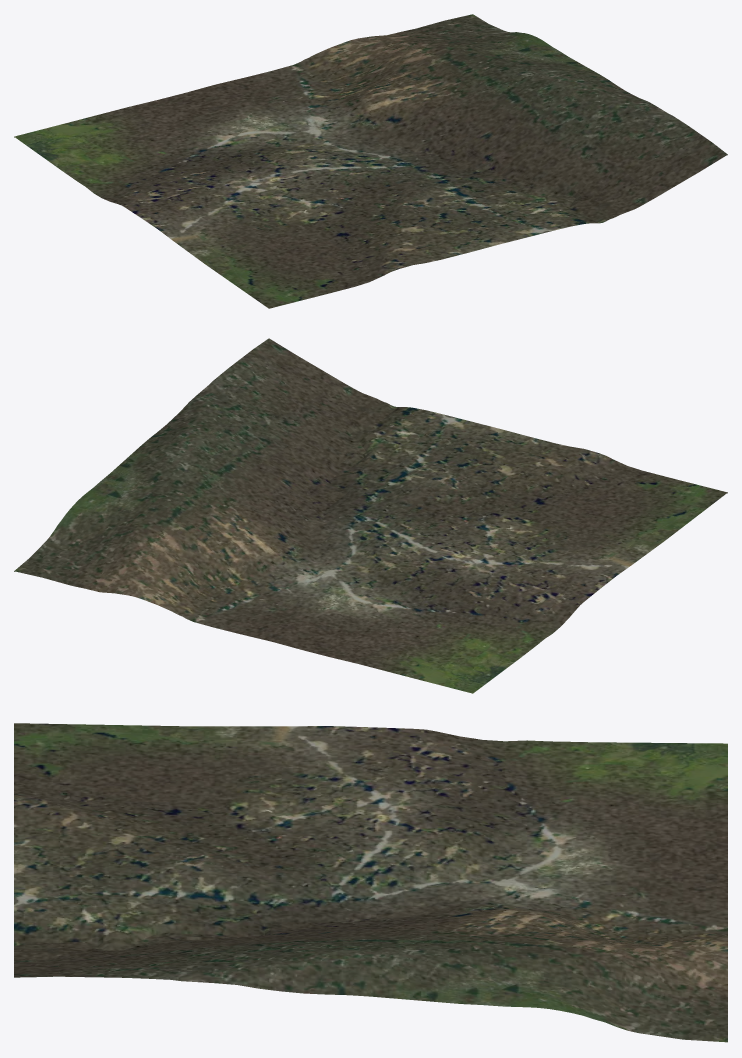
3 views of the same model, one above another, from view 1: azimuth 30°, elevation 25°; view 2: azimuth 150°, elevation 25°; view 3: azimuth 270°, elevation 25° (orthographic). The views are drawn at different scales.
Bounding box in the file's own units: 500 × 60.79 × 481.
1 material, 1 textured.
